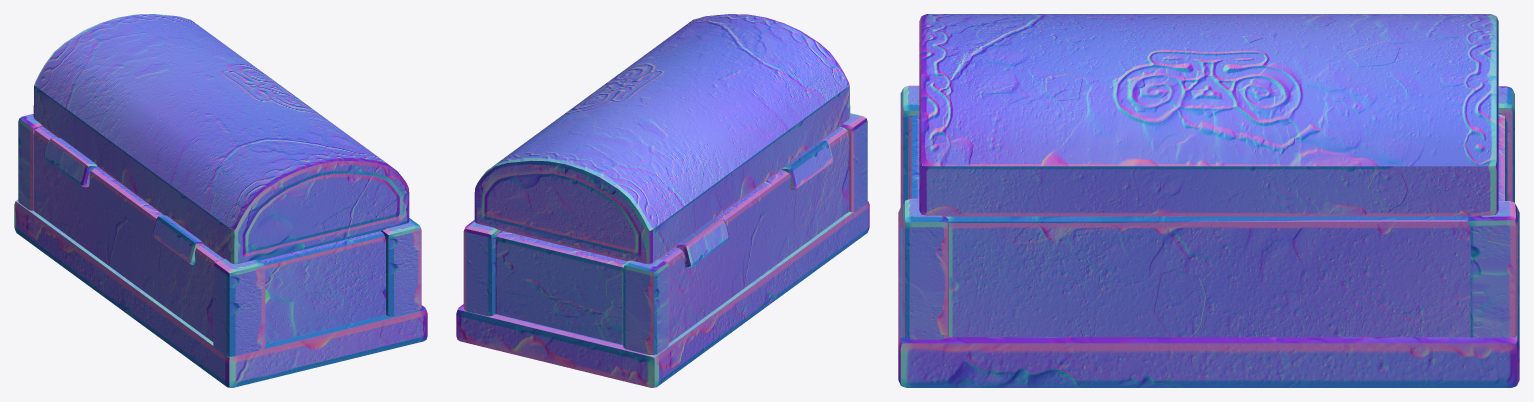
The model's file is Props_ChestStone.fbx.
The picture shows the model from 3 angles, left to right: view 1: azimuth 30°, elevation 25°; view 2: azimuth 150°, elevation 25°; view 3: azimuth 270°, elevation 25°; orthographic projection. The views are drawn at different scales.
Visible parts, largest first — view 1: CDTMesh_StoneChestTopHP, CDTMesh_StoneChestMainHP; view 2: CDTMesh_StoneChestTopHP, CDTMesh_StoneChestMainHP; view 3: CDTMesh_StoneChestTopHP, CDTMesh_StoneChestMainHP.
Boxes of the visible parts, <box> form: CDTMesh_StoneChestTopHP: <box>33,14,409,264</box>; CDTMesh_StoneChestMainHP: <box>14,114,427,387</box>; CDTMesh_StoneChestTopHP: <box>474,14,850,264</box>; CDTMesh_StoneChestMainHP: <box>456,113,869,387</box>; CDTMesh_StoneChestTopHP: <box>919,14,1498,216</box>; CDTMesh_StoneChestMainHP: <box>898,85,1519,387</box>.
Bounding box in the file's own units: 1.58 × 1.47 × 2.9.
